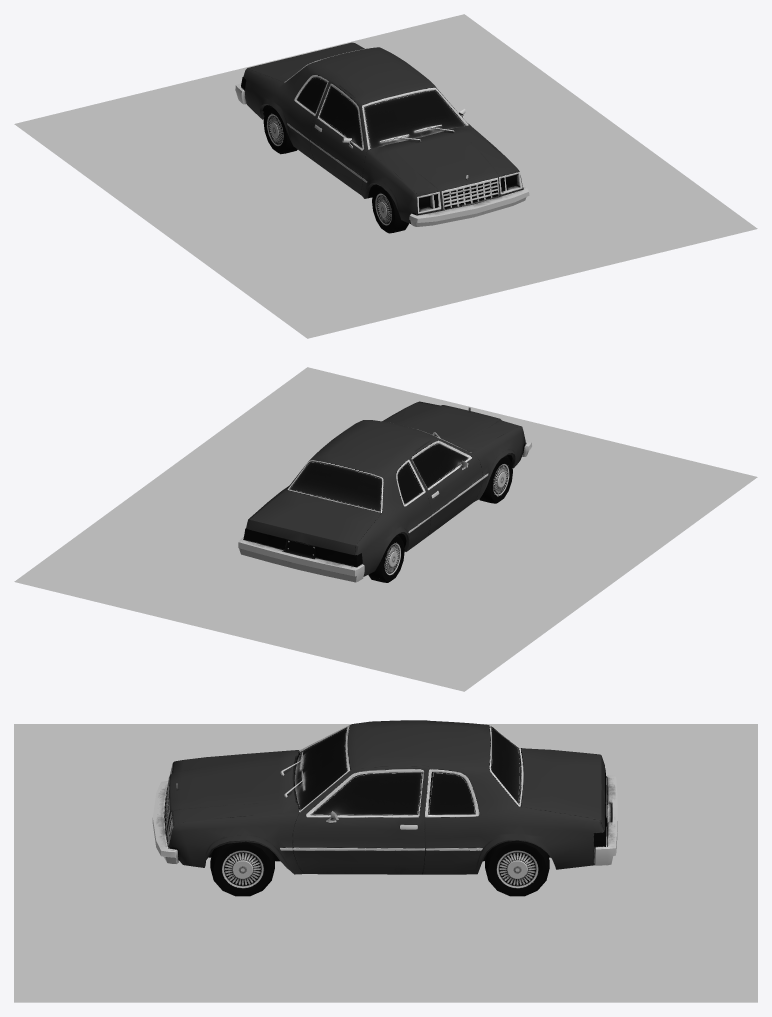
Rendered from skylark.FBX.
The picture shows the model from 3 angles, top to bottom: view 1: azimuth 30°, elevation 25°; view 2: azimuth 150°, elevation 25°; view 3: azimuth 270°, elevation 25°; orthographic projection. The views are drawn at different scales.
Visible parts, largest first — view 1: Plane001, skylark, Object001; view 2: Plane001, skylark, Object001; view 3: Plane001, skylark, Object001.
Boxes of the visible parts, bbox=[...] form: Plane001: bbox=[14, 14, 757, 338]; skylark: bbox=[235, 42, 529, 233]; Object001: bbox=[297, 77, 465, 148]; Plane001: bbox=[14, 367, 757, 691]; skylark: bbox=[238, 401, 531, 582]; Object001: bbox=[290, 444, 467, 511]; Plane001: bbox=[14, 724, 757, 1002]; skylark: bbox=[152, 720, 617, 896]; Object001: bbox=[294, 727, 520, 814].
Size of the model in its own units: 289 by 59.47 by 326.
